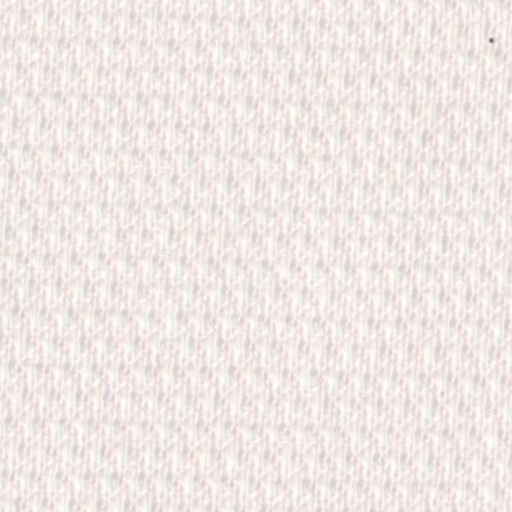WuZi: (468, 26, 508, 60)
